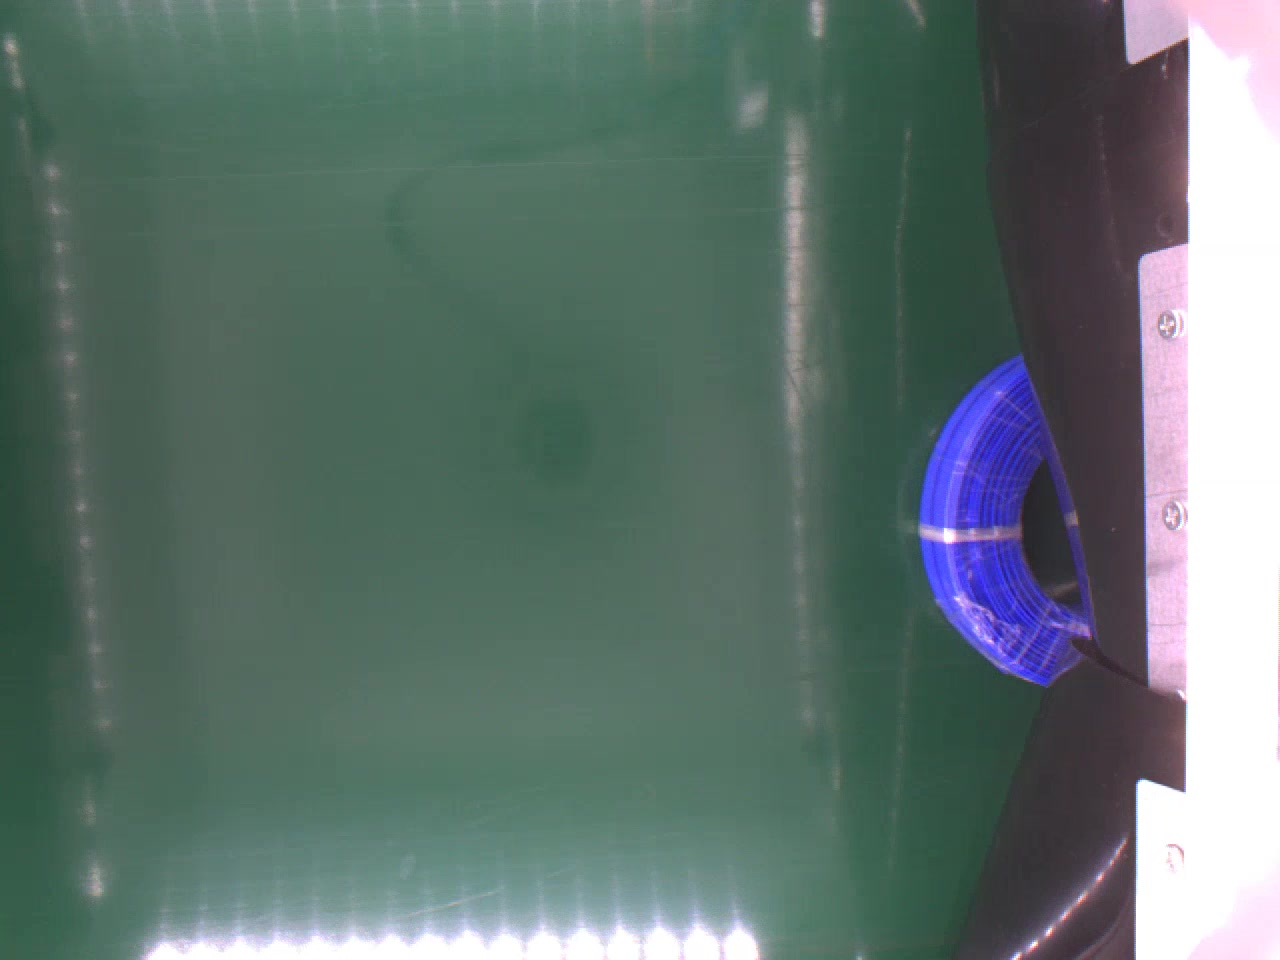blue: (913, 348, 1084, 687)
